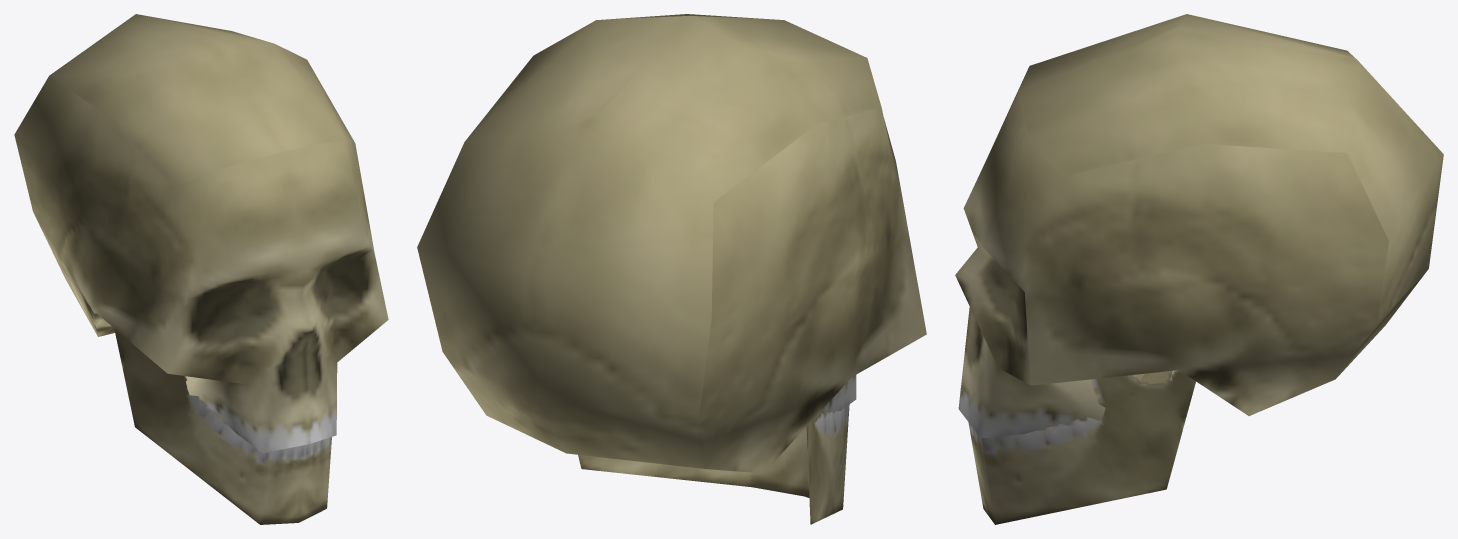
File: skull.glb
3 renders of one model, left to right at view 1: azimuth 30°, elevation 25°; view 2: azimuth 150°, elevation 25°; view 3: azimuth 270°, elevation 25°, orthographic. The views are drawn at different scales.
Visible parts, largest first — view 1: PSX_BoneSkull; view 2: PSX_BoneSkull; view 3: PSX_BoneSkull.
Boxes of the visible parts, <box> form: PSX_BoneSkull: <box>14,14,388,524</box>; PSX_BoneSkull: <box>417,14,926,524</box>; PSX_BoneSkull: <box>955,14,1443,524</box>.
Size of the model in its own units: 0.2747 by 0.4506 by 0.4188.
1 material, 1 textured.
